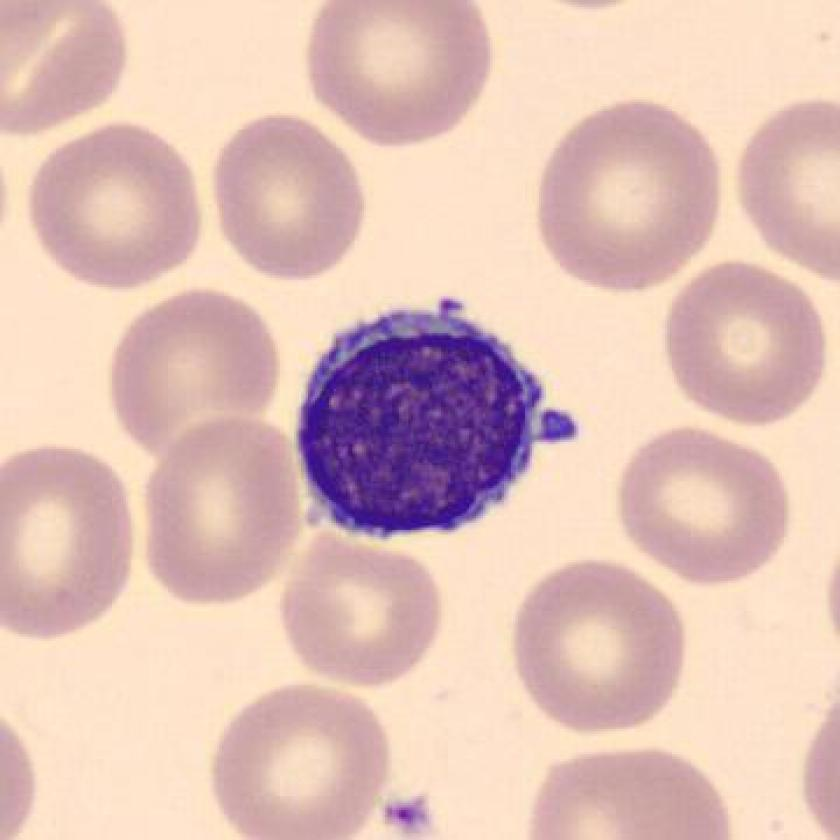lymphocyte: (272, 286, 589, 561)
